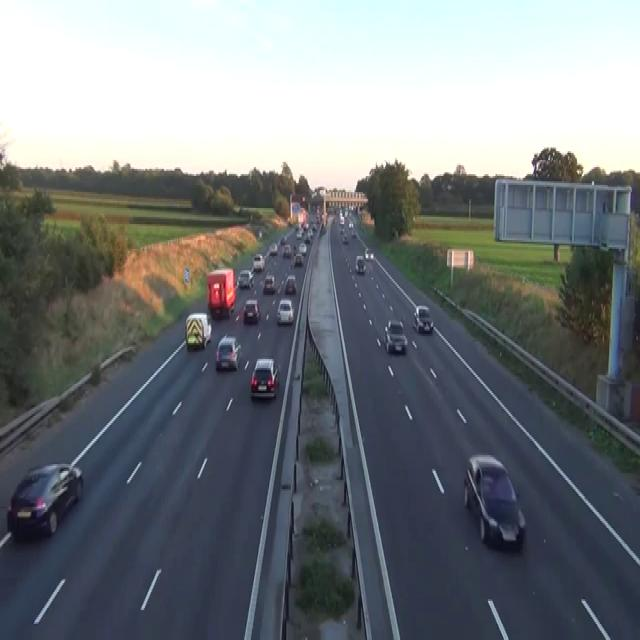Car: (6, 460, 83, 540), (463, 454, 525, 550), (250, 358, 279, 398), (215, 334, 241, 372), (383, 318, 407, 354), (412, 304, 433, 334), (276, 298, 294, 324), (243, 298, 260, 324), (236, 268, 253, 288), (262, 274, 276, 293), (284, 274, 297, 293), (354, 254, 366, 274), (252, 252, 264, 272), (292, 252, 303, 266), (364, 246, 374, 260), (282, 244, 291, 258), (248, 268, 254, 286), (269, 242, 277, 254), (298, 242, 306, 254), (295, 228, 303, 238), (320, 222, 326, 235), (305, 231, 312, 242), (287, 217, 295, 226), (342, 233, 348, 243), (302, 220, 308, 230), (339, 224, 344, 235), (280, 234, 286, 243), (292, 244, 297, 254), (339, 215, 344, 224), (348, 220, 353, 228), (351, 230, 356, 237), (311, 224, 316, 231), (258, 230, 262, 238)
Truck: (206, 267, 235, 318), (185, 311, 211, 350)
